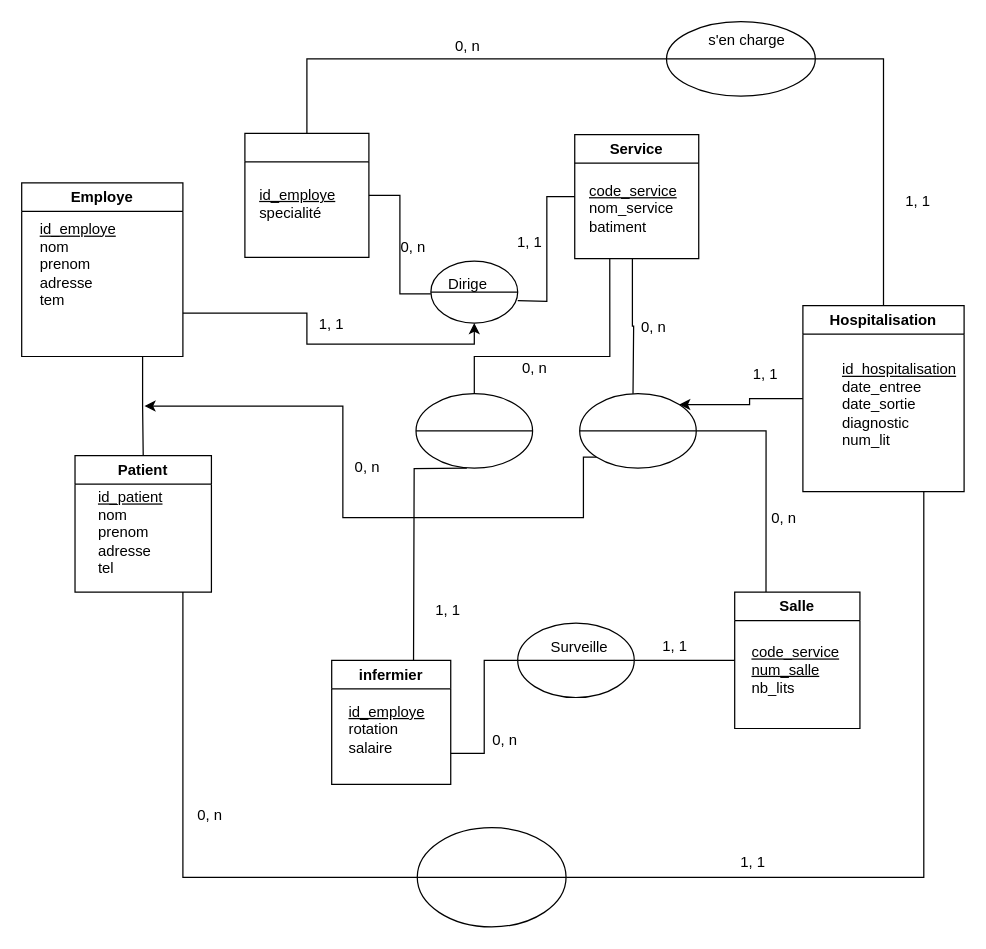
The diagram is 986 pixels wide and 949 high, and some of its shapes have lost their labels. The box of each missing label's shape, as (x1, y1, x2, y2) in pixels:
Affecte: (415, 392, 533, 468)
Contient: (578, 392, 696, 468)
Docteur: (244, 132, 369, 257)
Soigne: (416, 826, 566, 927)
